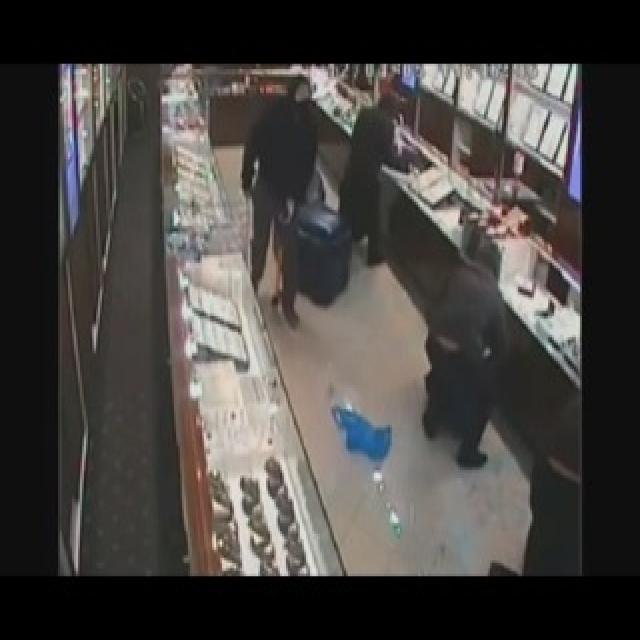thief: (417, 238, 510, 469), (243, 71, 322, 308), (336, 92, 406, 262)
